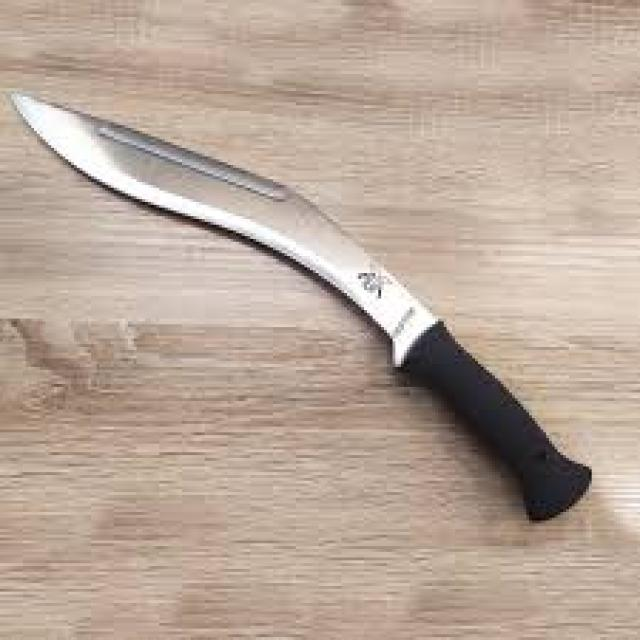Knife: (11, 91, 589, 518)
